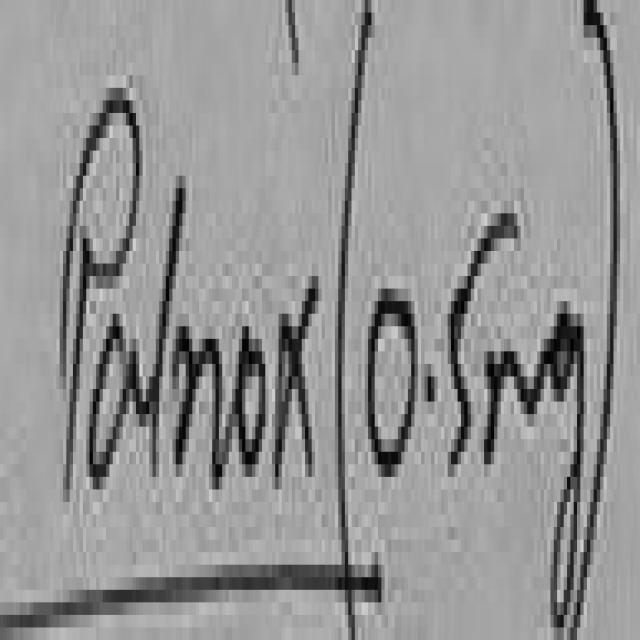0: (371, 289, 418, 477)
5: (451, 213, 521, 471)
P: (66, 88, 143, 496)
a: (90, 314, 146, 489)
g: (550, 314, 587, 640)
l: (146, 188, 186, 471)
m: (487, 351, 550, 458)
n: (172, 326, 232, 483)
o: (232, 326, 269, 477)
x: (275, 276, 318, 489)
